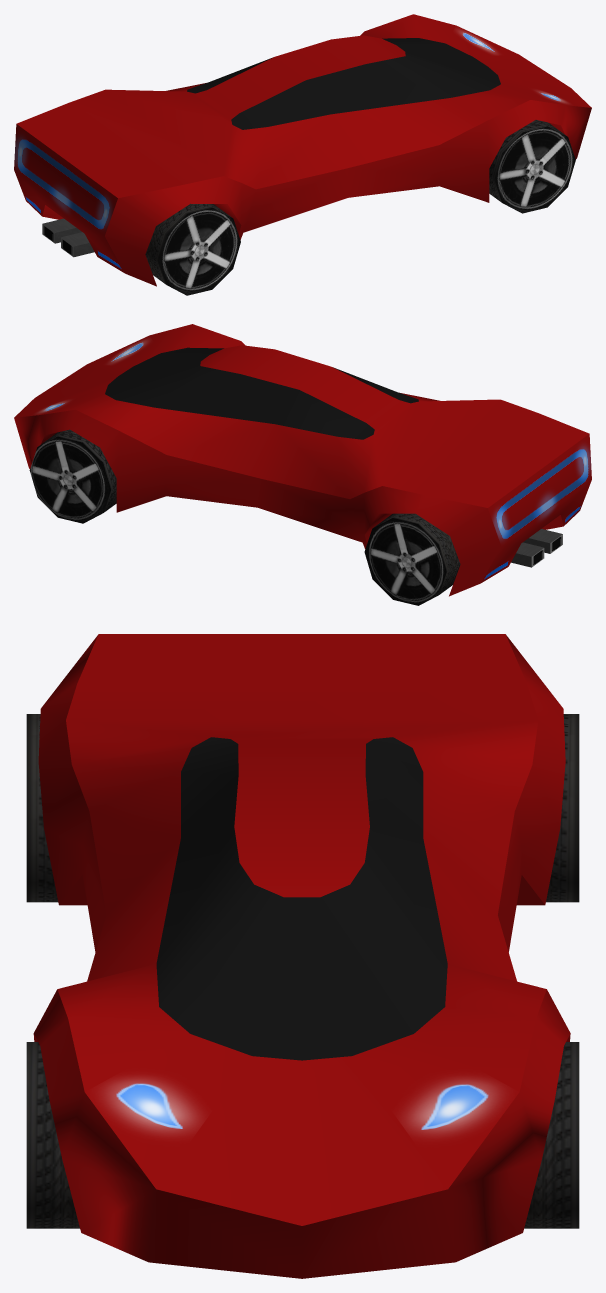
Rendered from Car2.FBX.
3 renders of one model, top to bottom at view 1: azimuth 30°, elevation 25°; view 2: azimuth 150°, elevation 25°; view 3: azimuth 270°, elevation 25°, orthographic. The views are drawn at different scales.
Visible parts, largest first — view 1: Box001; view 2: Box001; view 3: Box001.
Part boxes in pixels (<box>): Box001: <box>14,14,591,295</box>; Box001: <box>14,324,591,605</box>; Box001: <box>26,634,579,1278</box>.
Bounding box in the file's own units: 520 × 133 × 242.
